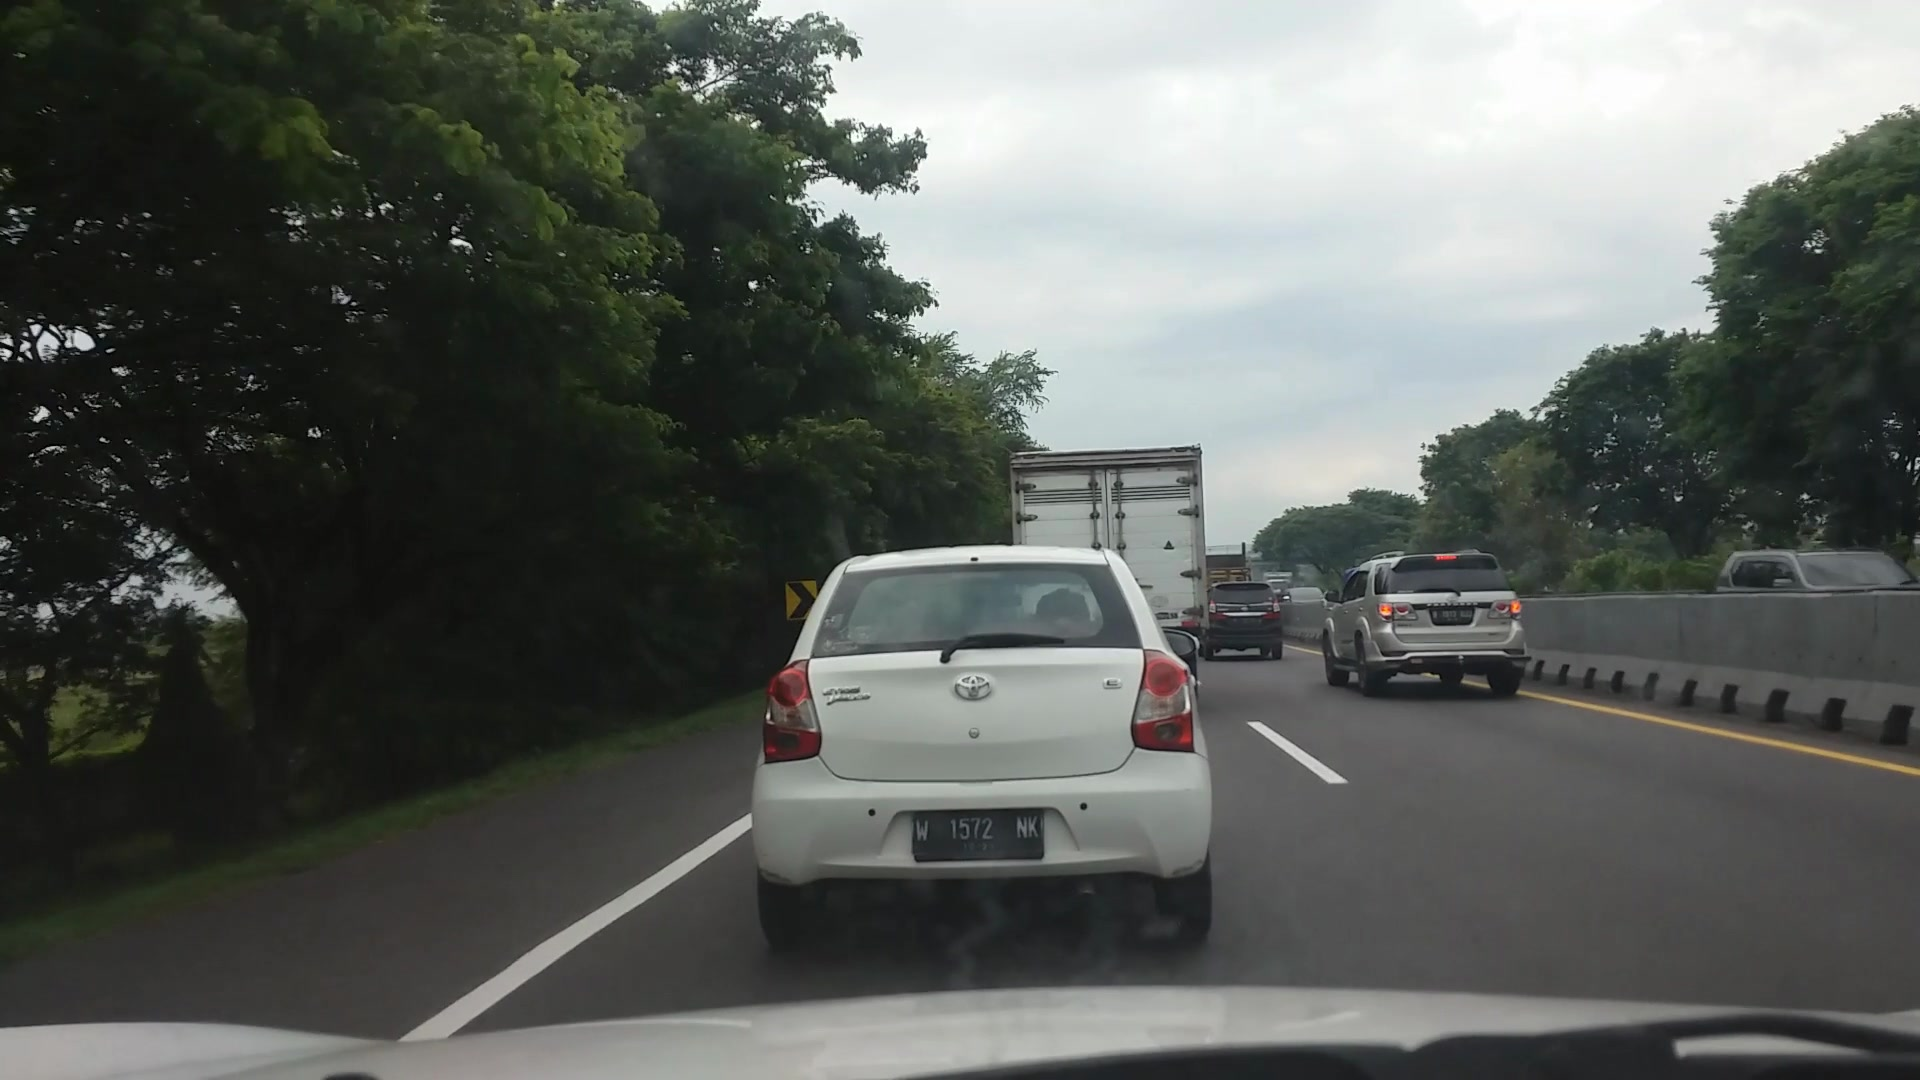plate_positive: (913, 808, 1044, 862)
